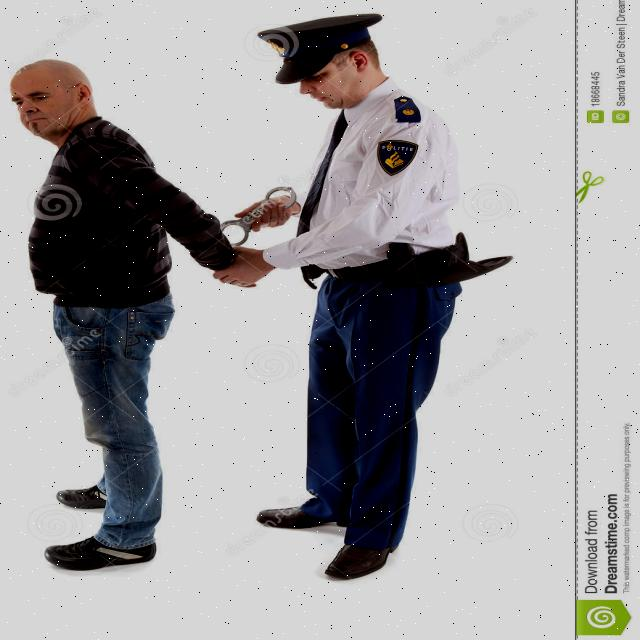police: (213, 0, 511, 592)
